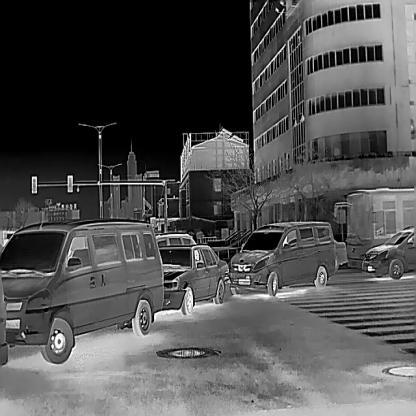car: (0, 217, 163, 363), (228, 220, 335, 296), (334, 186, 416, 269), (156, 243, 230, 314), (361, 224, 415, 278), (331, 237, 347, 271), (155, 233, 197, 245)
crosswalk: (296, 294, 416, 383)
